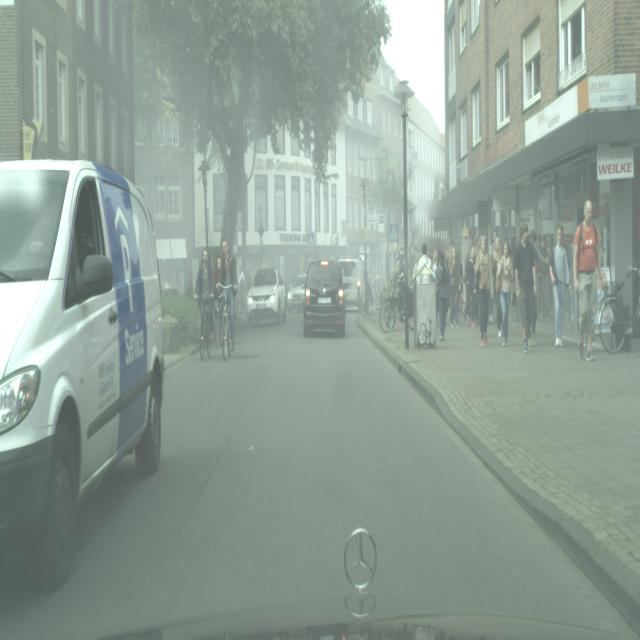bus: (0, 158, 165, 592), (303, 259, 346, 338), (246, 268, 288, 328), (338, 257, 367, 313), (287, 273, 308, 312)
car: (597, 264, 640, 354), (215, 239, 235, 361), (196, 249, 212, 361)
person: (572, 199, 602, 359), (514, 224, 537, 353), (550, 224, 571, 348), (495, 238, 515, 346), (473, 236, 492, 348), (436, 249, 452, 342), (463, 248, 476, 327)
